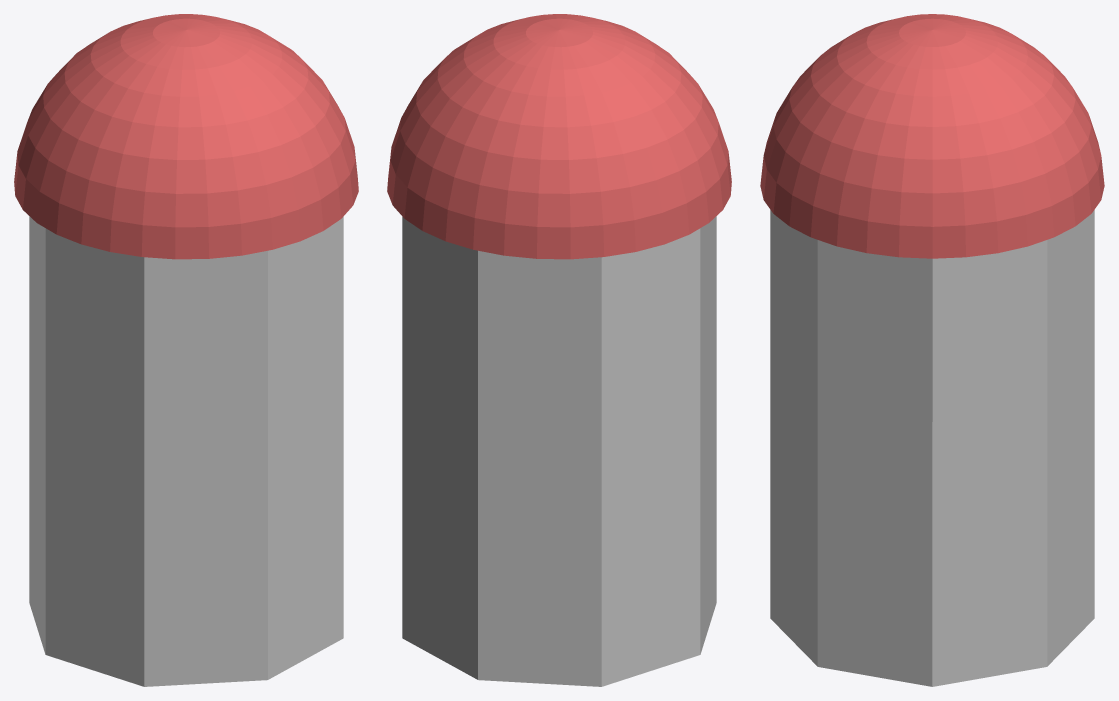
File: WindmillBase.fbx
3 renders of one model, left to right at view 1: azimuth 30°, elevation 25°; view 2: azimuth 150°, elevation 25°; view 3: azimuth 270°, elevation 25°, orthographic.
Visible parts, largest first — view 1: Windmill Base; view 2: Windmill Base; view 3: Windmill Base.
Part boxes in pixels (x1,y1,x2,y2): Windmill Base: (14, 14, 358, 686); Windmill Base: (387, 14, 731, 686); Windmill Base: (760, 14, 1104, 686).
Size of the model in its own units: 964 by 1818 by 964.
